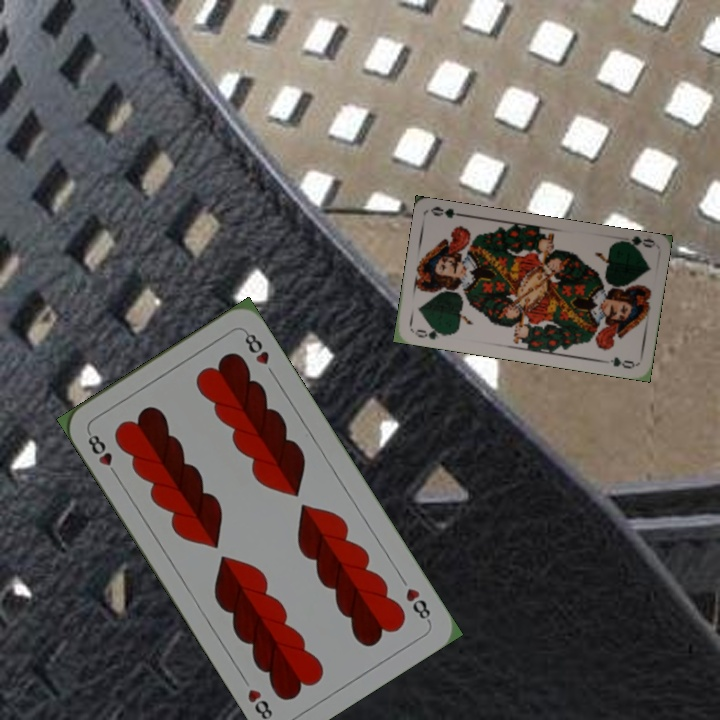GO: (614, 233, 655, 254), (409, 323, 450, 342)
H8: (83, 427, 121, 480), (401, 583, 434, 625)
